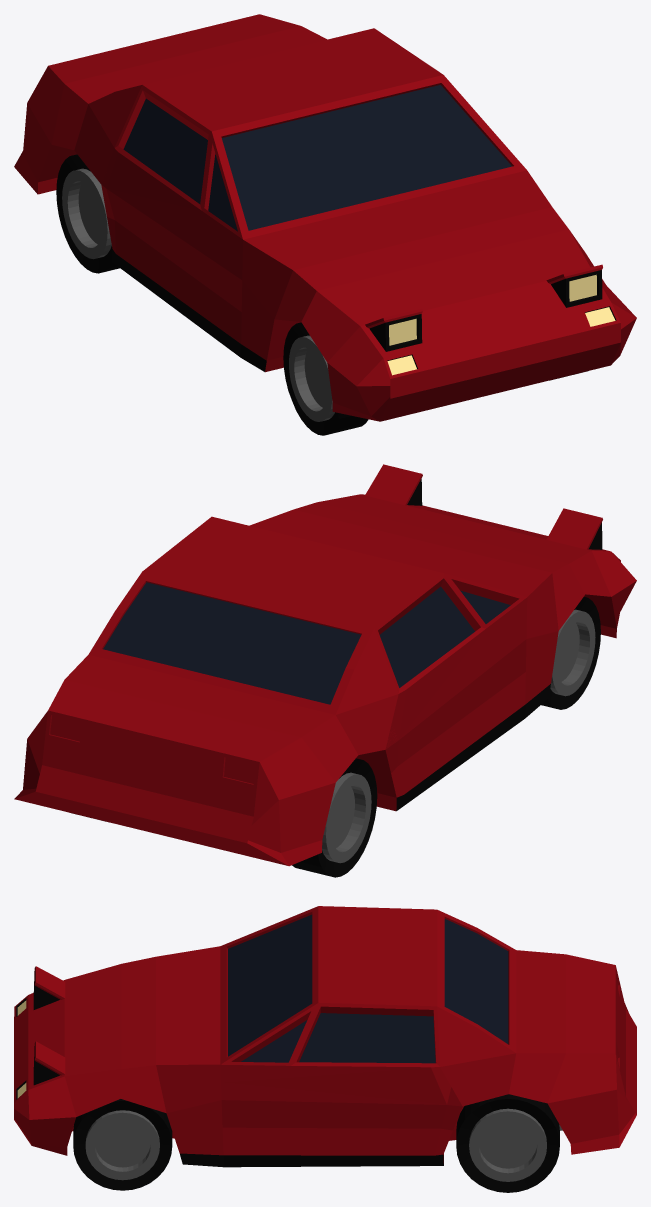
Rendered from car.fbx.
3 views of the same model, one above another, from view 1: azimuth 30°, elevation 25°; view 2: azimuth 150°, elevation 25°; view 3: azimuth 270°, elevation 25° (orthographic). The views are drawn at different scales.
Visible parts, largest first — view 1: CarBody; view 2: CarBody; view 3: CarBody.
Part boxes in pixels (x1,y1,x2,y2): CarBody: (14, 14, 636, 435); CarBody: (14, 464, 636, 877); CarBody: (14, 906, 636, 1192).
Size of the model in its own units: 168 by 118 by 362.
